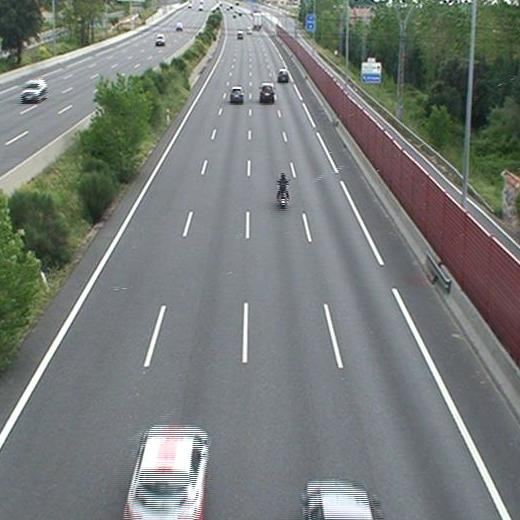car: (124, 427, 207, 520), (260, 83, 274, 98), (229, 87, 243, 102), (276, 69, 289, 81)
motorcycle: (274, 171, 292, 209)
